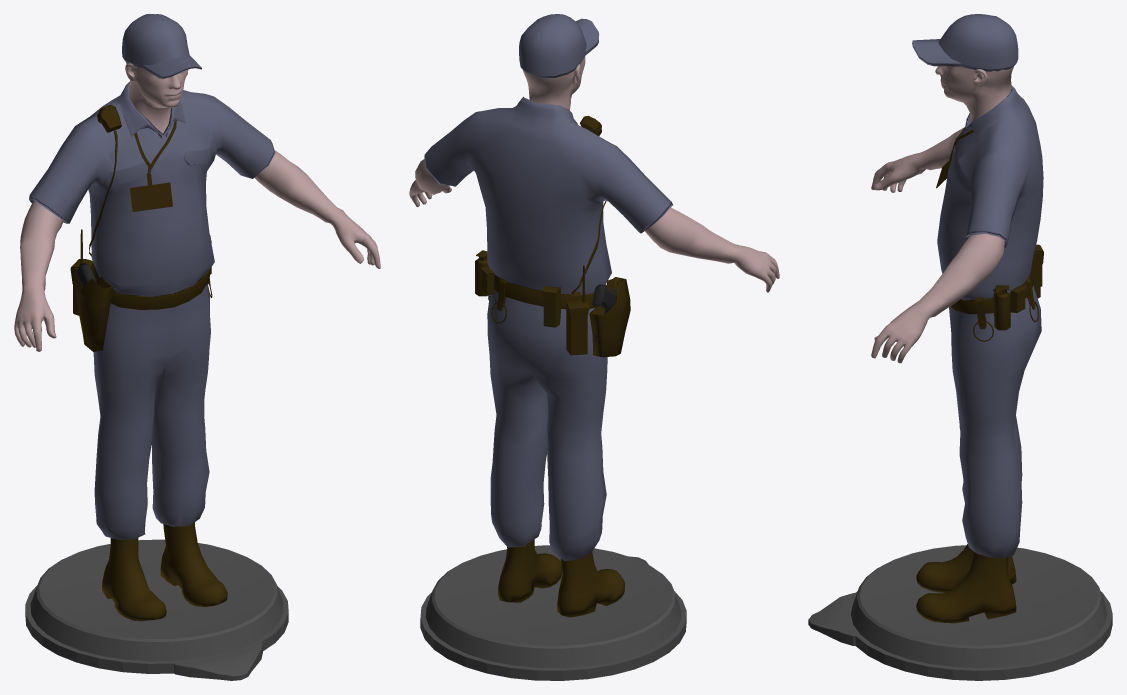
The model's file is guard.fbx.
The picture shows the model from 3 angles, left to right: view 1: azimuth 30°, elevation 25°; view 2: azimuth 150°, elevation 25°; view 3: azimuth 270°, elevation 25°; orthographic projection.
Visible parts, largest first — view 1: guard; view 2: guard; view 3: guard.
Boxes of the visible parts, x1,y1,x2,y2 form: guard: (14, 14, 380, 680); guard: (409, 14, 779, 680); guard: (808, 14, 1112, 680).
Size of the model in its own units: 0.8274 by 1.33 by 0.604.
